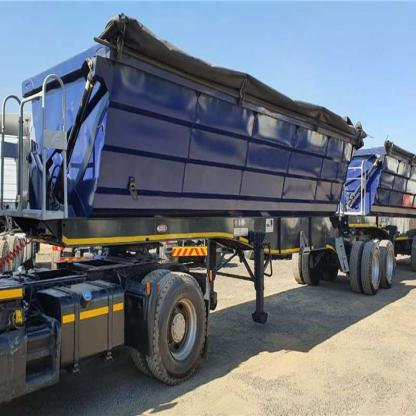dump_truck: (2, 11, 416, 391)
